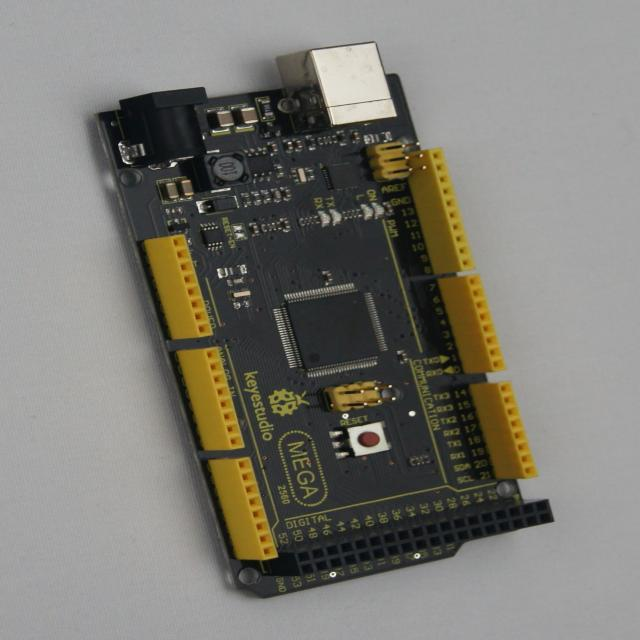Arduino Mega 2560 -Yellow-: (98, 44, 553, 597)
